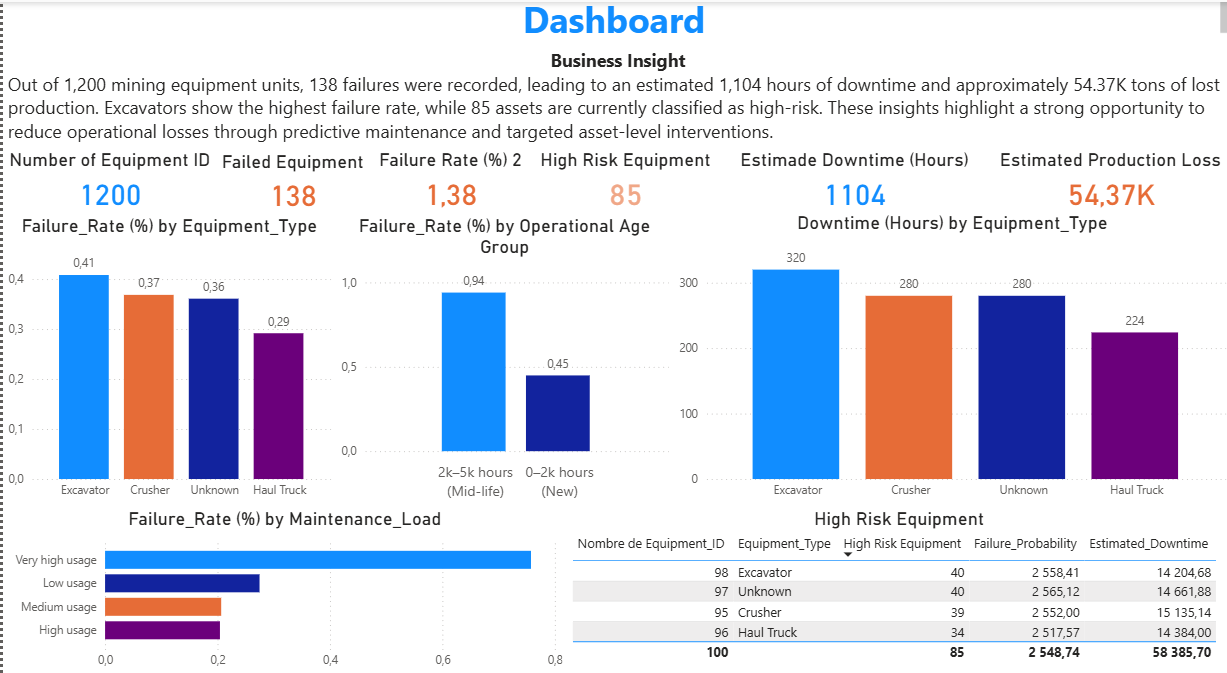

The dashboard page shown, as its layout file describes it:
{"tool":"powerbi","page":{"name":"Page 3","canvas":[1280,720],"ordinal":3},"visuals":[{"type":"actionButton","box":[0,0,100,40],"z":1002},{"type":"textbox","box":[0,0,1281.1,54],"z":1003},{"type":"card","title":"Failed Equipment","fields":{"Values":["Sheet1 (2).Failed Equipment"]},"box":[222.5,166.9,160.1,67.4],"z":1007},{"type":"card","title":"Number of Equipment ID","fields":{"Values":["CountNonNull(Sheet1 (2).Equipment_ID)"]},"box":[0,165.2,222.5,69.1],"z":1008},{"type":"card","title":"Failure Rate (%) 2","fields":{"Values":["Sheet1 (2).Failure_Rate (%)"]},"box":[382.7,165.2,166.9,69.1],"z":1009},{"type":"card","title":"High Risk Equipment","fields":{"Values":["Sheet1 (2).High Risk Equipment"]},"box":[549.5,165.2,197.2,69.1],"z":1010},{"type":"card","title":"Estimade Downtime (Hours)","fields":{"Values":["Sheet1 (2).Estimated Downtime (Hours)"]},"box":[745.1,165.2,283.2,69.1],"z":1011},{"type":"card","title":"Estimated Production Loss ","fields":{"Values":["Sheet1 (2).Estimated Production Loss (Tons)"]},"box":[1028.3,165.2,251.2,69.1],"z":1012},{"type":"columnChart","title":"Failure_Rate (%) by Equipment_Type","fields":{"Y":["Sheet1 (2).Failure_Rate (%)"],"Category":["Sheet1 (2).Equipment_Type"],"Series":["Sheet1 (2).Equipment_Type"]},"box":[0,234.4,346.9,304.7],"z":1013},{"type":"textbox","box":[0,54,1281.1,111.4],"z":1014},{"type":"columnChart","title":"Failure_Rate (%) by Operational Age Group","fields":{"Y":["Sheet1 (2).Failure_Rate (%)"],"Category":["Sheet1 (2).Operational_Age_Group"],"Series":["Sheet1 (2).Operational_Age_Group"]},"box":[346.9,234.4,351.6,304.7],"z":1015},{"type":"barChart","title":"Failure_Rate (%) by Maintenance_Load","fields":{"Category":["Sheet1 (2).Maintenance_Load"],"Y":["Sheet1 (2).Failure_Rate (%)"],"Series":["Sheet1 (2).Maintenance_Load"]},"box":[0,539.1,587.5,176.6],"z":1016},{"type":"columnChart","title":"Downtime (Hours) by Equipment_Type","fields":{"Category":["Sheet1 (2).Equipment_Type"],"Y":["Sheet1 (2).Estimated Downtime (Hours)"],"Series":["Sheet1 (2).Equipment_Type"]},"box":[698.4,231.2,581.2,307.8],"z":1017},{"type":"tableEx","title":"High Risk Equipment","fields":{"Values":["Count(Sheet1 (2).Equipment_ID)","Sheet1 (2).Equipment_Type","Sheet1 (2).High Risk Equipment","Sheet1 (2).Failure_Probability","Sheet1 (2).Estimated_Downtime"]},"box":[587.5,539.1,692.2,176.6],"z":1018}]}

Visuals, with their boxes in screenshot pixels (x1, y1, x2, y2), scaled from the page's 1280x720 canvas onto the 1227x673 screenshot:
actionButton: bbox(0, 0, 96, 37)
textbox: bbox(0, 0, 1226, 50)
"Failed Equipment" card: bbox(213, 156, 367, 219)
"Number of Equipment ID" card: bbox(0, 154, 213, 219)
"Failure Rate (%) 2" card: bbox(367, 154, 527, 219)
"High Risk Equipment" card: bbox(527, 154, 716, 219)
"Estimade Downtime (Hours)" card: bbox(714, 154, 986, 219)
"Estimated Production Loss " card: bbox(986, 154, 1226, 219)
"Failure_Rate (%) by Equipment_Type" columnChart: bbox(0, 219, 333, 504)
textbox: bbox(0, 50, 1226, 155)
"Failure_Rate (%) by Operational Age Group" columnChart: bbox(333, 219, 670, 504)
"Failure_Rate (%) by Maintenance_Load" barChart: bbox(0, 504, 563, 669)
"Downtime (Hours) by Equipment_Type" columnChart: bbox(669, 216, 1226, 504)
"High Risk Equipment" tableEx: bbox(563, 504, 1226, 669)
